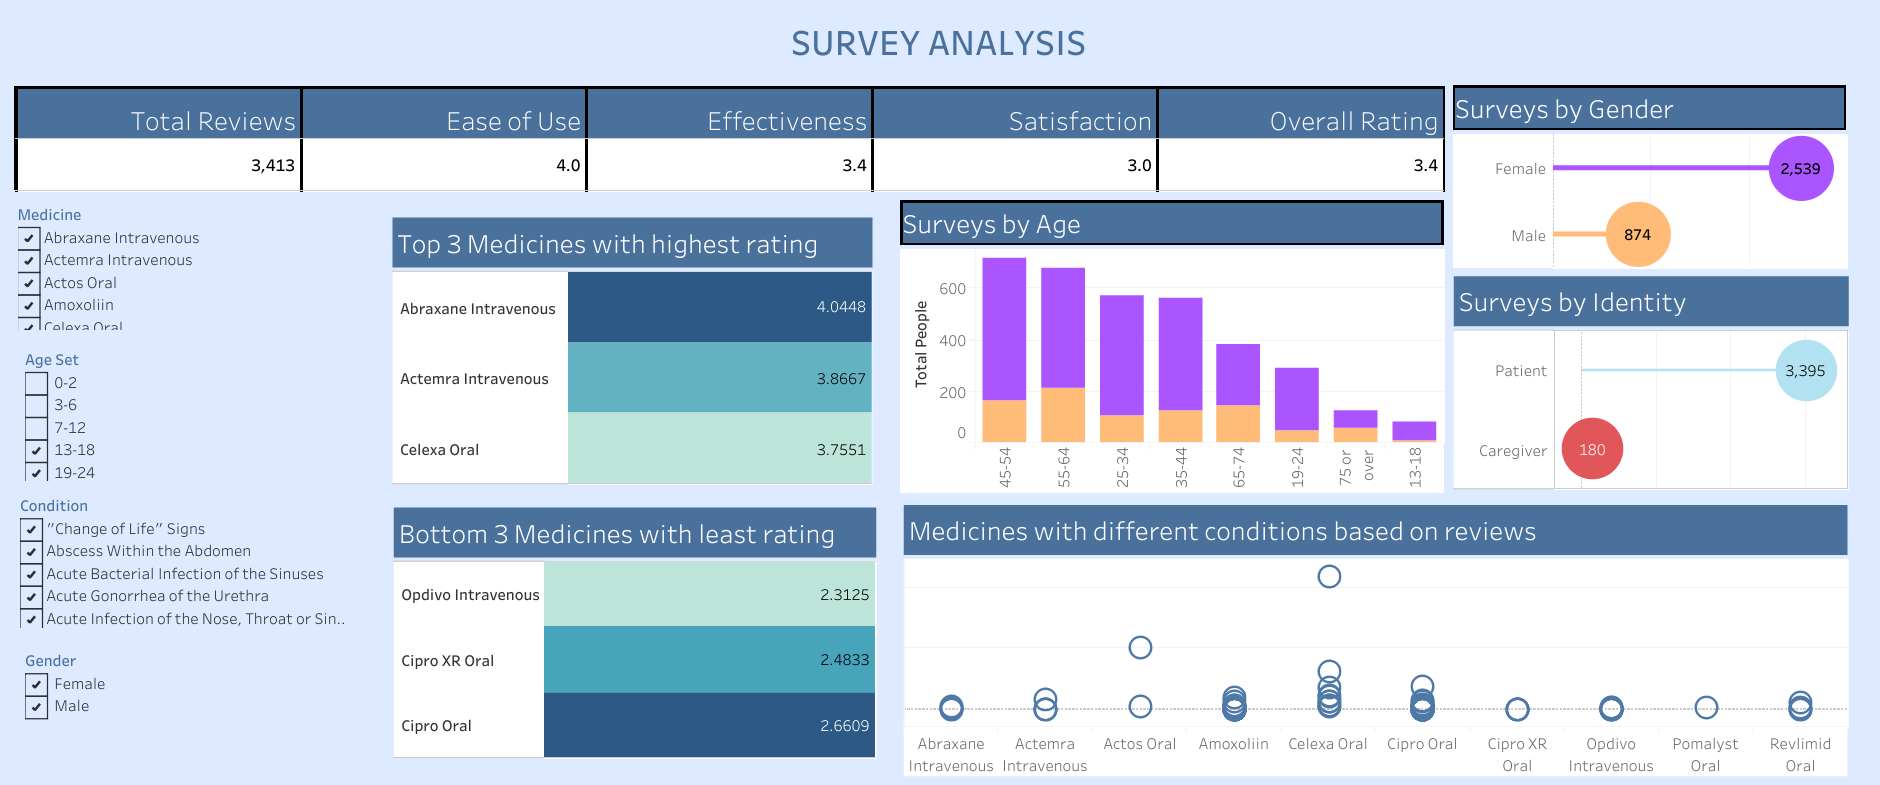

The dashboard page shown, as its layout file describes it:
{"tool":"tableau","page":{"name":"Dashboard 1","canvas":[1000,1000],"units":"permille","ordinal":0},"visuals":[{"type":"worksheet","title":"Sheet 2","mark":"Automatic","rows":["Gender"],"cols":["Extracted Data_10551DEE0ACE471599A277F321D61859","Extracted Data_10551DEE0ACE471599A277F321D61859"],"box":[771.8,108.1,209.7,232.7]},{"type":"worksheet","title":"Sheet 3","mark":"Automatic","box":[7.4,109.3,760.8,134]},{"type":"worksheet","title":"Sheet 1","mark":"Automatic","rows":["Extracted Data_10551DEE0ACE471599A277F321D61859"],"cols":["Age"],"box":[478.7,255.1,288.8,370.6]},{"type":"filter","title":"Sheet 1","param":"[federated.1dt63c20x9kd8b11z1med1drv40q].[none:Medicine:nk]","box":[9.3,256.3,178.1,163.7]},{"type":"worksheet","title":"Sheet 6 (2)","mark":"Square","box":[208.4,276.8,255.4,340.6]},{"type":"worksheet","title":"Sheet 5","mark":"Automatic","cols":["Extracted Data_10551DEE0ACE471599A277F321D61859","Extracted Data_10551DEE0ACE471599A277F321D61859"],"box":[773,351.4,209.7,272]},{"type":"filter","title":"Sheet 1","param":"[federated.1dt63c20x9kd8b11z1med1drv40q].[Age Set]","box":[13,440.4,174.4,172.1]},{"type":"filter","title":"Sheet 1","param":"[federated.1dt63c20x9kd8b11z1med1drv40q].[none:Condition:nk]","box":[10.5,625.8,175.6,172.1]},{"type":"worksheet","title":"Sheet 7","mark":"Shape","rows":["Extracted Data_10551DEE0ACE471599A277F321D61859"],"cols":["Medicine"],"box":[480.5,642.6,501.6,344.2]},{"type":"worksheet","title":"Sheet 6","mark":"Square","box":[209,645,256.6,320.1]},{"type":"filter","title":"Sheet 1","param":"[federated.1dt63c20x9kd8b11z1med1drv40q].[Gender Set]","box":[13.6,824.3,172.5,117.9]}]}

Visuals, with their boxes on the dashboard's canvas, which has no fixed pixel size, in thousandths of its width and height (x1, y1, x2, y2). These are canvas units, not pixel positions in the 1880x785 screenshot, which may show the page scaled, cropped or inside an application window:
"Sheet 2" worksheet: box(772, 108, 982, 341)
"Sheet 3" worksheet: box(7, 109, 768, 243)
"Sheet 1" worksheet: box(479, 255, 768, 626)
"Sheet 1" filter: box(9, 256, 187, 420)
"Sheet 6 (2)" worksheet (Square marks): box(208, 277, 464, 617)
"Sheet 5" worksheet: box(773, 351, 983, 623)
"Sheet 1" filter: box(13, 440, 187, 612)
"Sheet 1" filter: box(10, 626, 186, 798)
"Sheet 7" worksheet (Shape marks): box(480, 643, 982, 987)
"Sheet 6" worksheet (Square marks): box(209, 645, 466, 965)
"Sheet 1" filter: box(14, 824, 186, 942)
